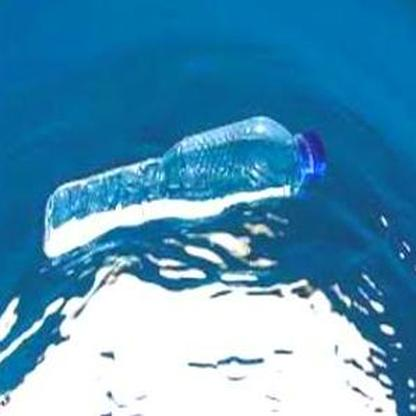plastic bottle: (41, 116, 328, 263)
